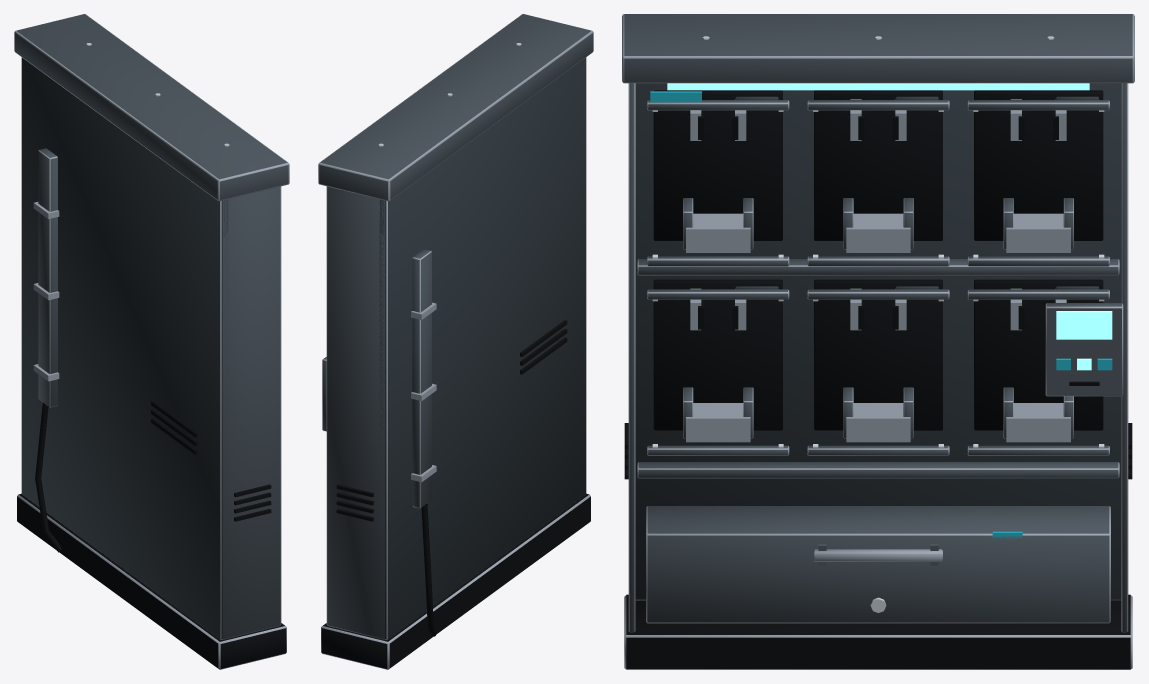
File: prop_armero.glb
The picture shows the model from 3 angles, left to right: view 1: azimuth 30°, elevation 25°; view 2: azimuth 150°, elevation 25°; view 3: azimuth 270°, elevation 25°; orthographic projection. The views are drawn at different scales.
Visible parts, largest first — view 1: chapa_fondo, chapa_lateral_1, cornisa, zocalo, conducto, cable; view 2: chapa_fondo, chapa_lateral_2, cornisa, zocalo, conducto, cable; view 3: chapa_fondo, cajon, cornisa, zocalo, hueco_4, hueco_5, hueco_3, hueco_2, hueco_1, hueco_6, refuerzo_1, panel_control (+24 smaller).
Part boxes in pixels (x1,y1,x2,y2): chapa_fondo: [21, 57, 228, 639]; chapa_lateral_1: [222, 186, 281, 639]; cornisa: [14, 14, 289, 201]; zocalo: [17, 493, 286, 669]; conducto: [38, 148, 57, 407]; cable: [35, 402, 61, 552]; chapa_fondo: [379, 57, 586, 639]; chapa_lateral_2: [326, 186, 385, 639]; cornisa: [318, 14, 593, 201]; zocalo: [321, 493, 590, 669]; conducto: [412, 249, 431, 508]; cable: [421, 504, 436, 636]; chapa_fondo: [635, 83, 1121, 600]; cajon: [646, 506, 1110, 623]; cornisa: [622, 14, 1134, 83]; zocalo: [624, 594, 1132, 669]; hueco_4: [653, 279, 782, 430]; hueco_5: [814, 279, 942, 430]; hueco_3: [974, 90, 1103, 240]; hueco_2: [814, 90, 942, 240]; hueco_1: [653, 90, 782, 240]; hueco_6: [974, 279, 1103, 430]; refuerzo_1: [637, 462, 1119, 478]; panel_control: [1045, 303, 1123, 396].
Bounding box in the file's own units: 0.291 × 1.58 × 1.19.
